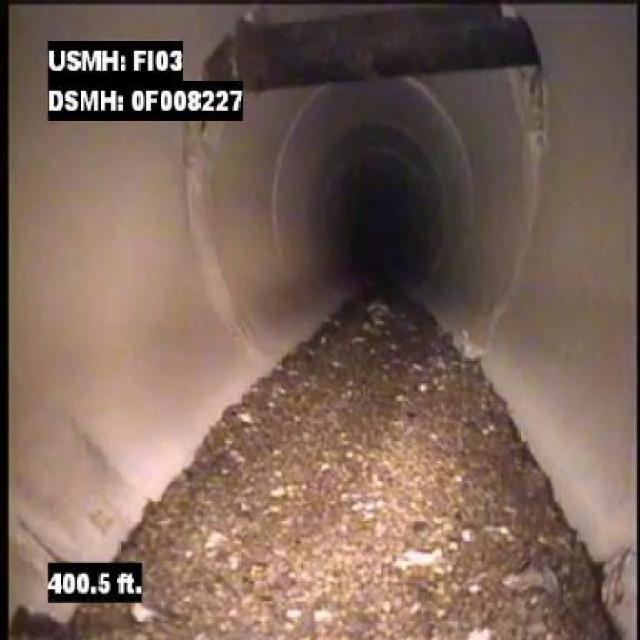Debris: (148, 392, 603, 623)
Utility intrusion: (202, 9, 543, 97)
